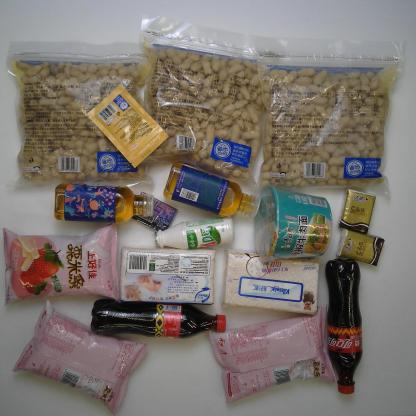Dried Food: (258, 56, 398, 188), (144, 39, 266, 182), (10, 56, 145, 185)
Drink: (90, 298, 227, 340), (324, 257, 364, 396), (163, 162, 261, 218), (53, 183, 154, 223)
Gum: (132, 191, 178, 232)
Instant Noodles: (252, 184, 332, 264)
Milk: (156, 216, 236, 249)
Puffed Food: (10, 299, 148, 415), (208, 304, 338, 405), (3, 222, 120, 307)
Seasoner: (88, 84, 171, 169)
Tissue: (220, 247, 320, 316), (119, 247, 216, 304), (337, 228, 385, 266), (337, 189, 377, 232)
